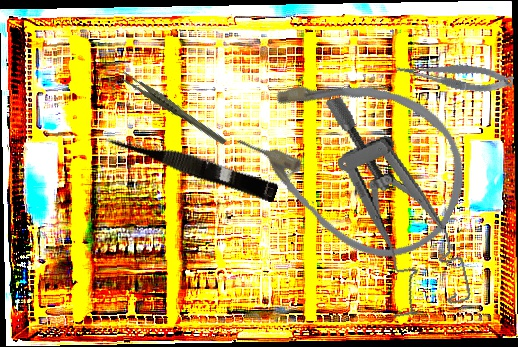Cannula: (217, 36, 491, 282)
Micro Scissor: (102, 124, 281, 204), (394, 49, 515, 101)
Speculum: (323, 78, 473, 324)
Tissue Forceps: (117, 54, 228, 163)
